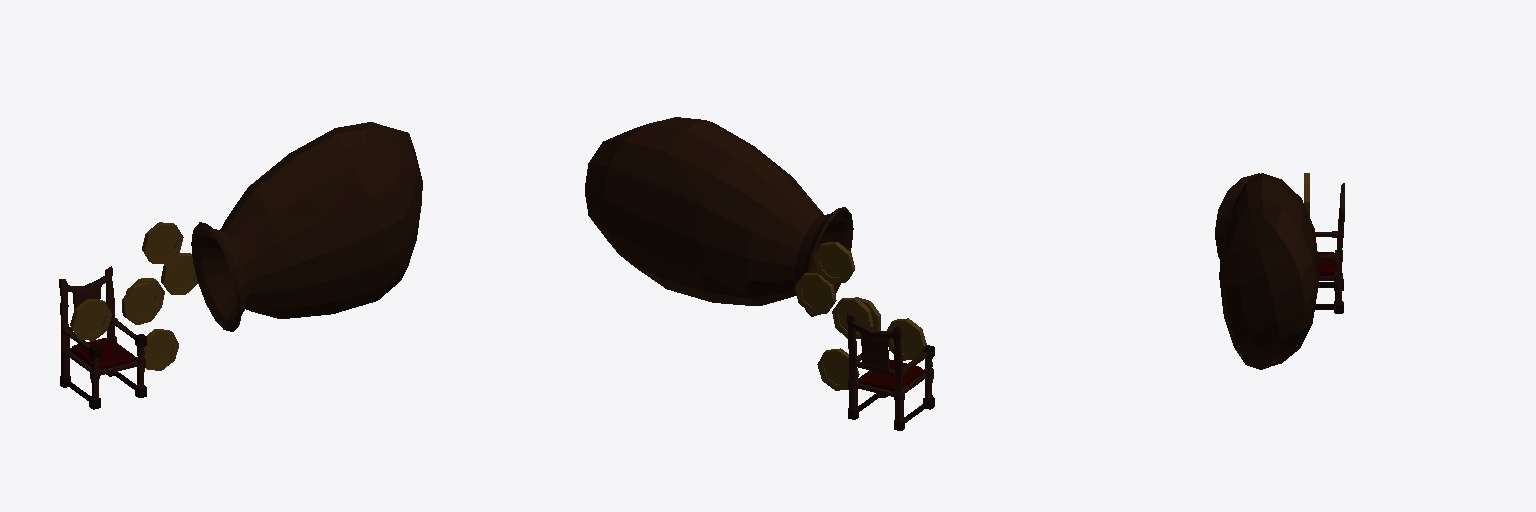
File: Chair_Cube.obj
3 views of the same model, side by side, from view 1: azimuth 30°, elevation 25°; view 2: azimuth 150°, elevation 25°; view 3: azimuth 270°, elevation 25° (orthographic).
Parts seen in each view (by area): view 1: Bag_Coins_Cylinder.001, Chair_Cube.027; view 2: Bag_Coins_Cylinder.001, Chair_Cube.027; view 3: Bag_Coins_Cylinder.001, Chair_Cube.027.
Boxes of the visible parts, x1=… form: Bag_Coins_Cylinder.001: x1=70, y1=122, x2=422, y2=370; Chair_Cube.027: x1=59, y1=266, x2=146, y2=409; Bag_Coins_Cylinder.001: x1=585, y1=117, x2=926, y2=390; Chair_Cube.027: x1=847, y1=314, x2=934, y2=430; Bag_Coins_Cylinder.001: x1=1215, y1=173, x2=1319, y2=369; Chair_Cube.027: x1=1315, y1=183, x2=1344, y2=313.
Size of the model in its own units: 3.95 by 2.47 by 1.31.